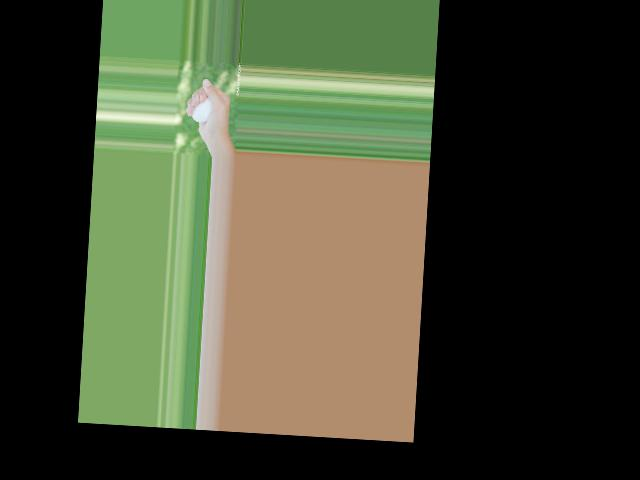egg: (191, 95, 212, 122)
